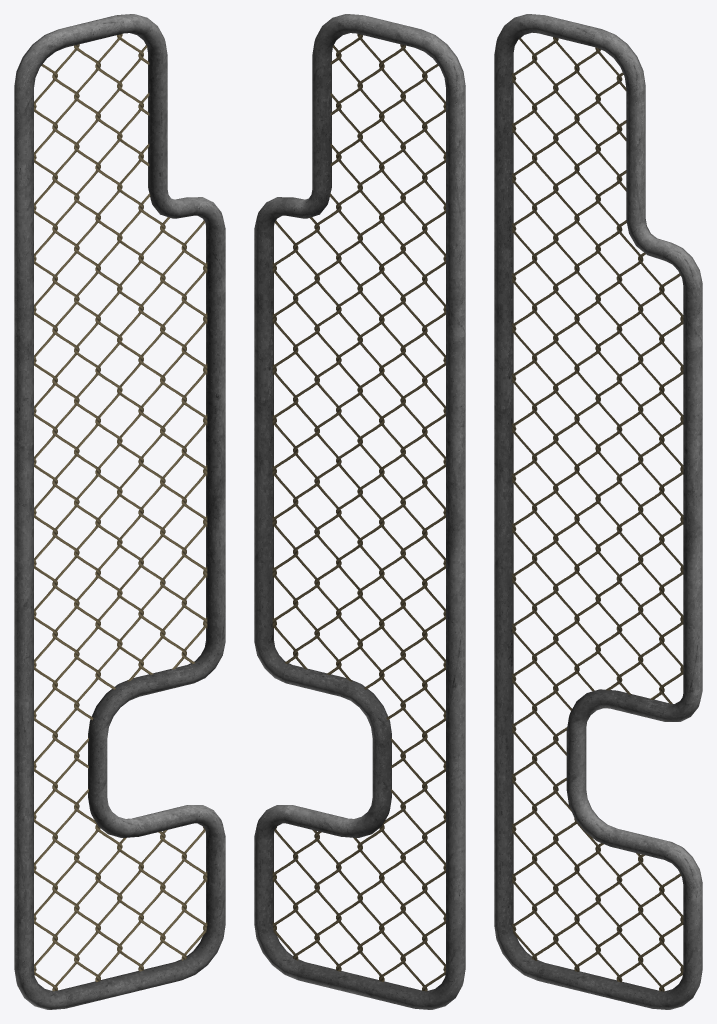
File: fencing_round_wall_pplant_ground_pipehole01.dae
3 views of the same model, side by side, from view 1: azimuth 30°, elevation 25°; view 2: azimuth 150°, elevation 25°; view 3: azimuth 330°, elevation 25° (orthographic).
Visible parts, largest first — view 1: polySurface29, polySurface31; view 2: polySurface29, polySurface31; view 3: polySurface29, polySurface31.
Boxes of the visible parts, x1=… form: polySurface29: x1=14, y1=14, x2=225, y2=1009; polySurface31: x1=34, y1=34, x2=207, y2=991; polySurface29: x1=254, y1=14, x2=465, y2=1009; polySurface31: x1=272, y1=34, x2=445, y2=991; polySurface29: x1=494, y1=14, x2=702, y2=1009; polySurface31: x1=512, y1=37, x2=683, y2=991.
Bounding box in the file's own units: 0.8815 × 3.94 × 0.0742.
